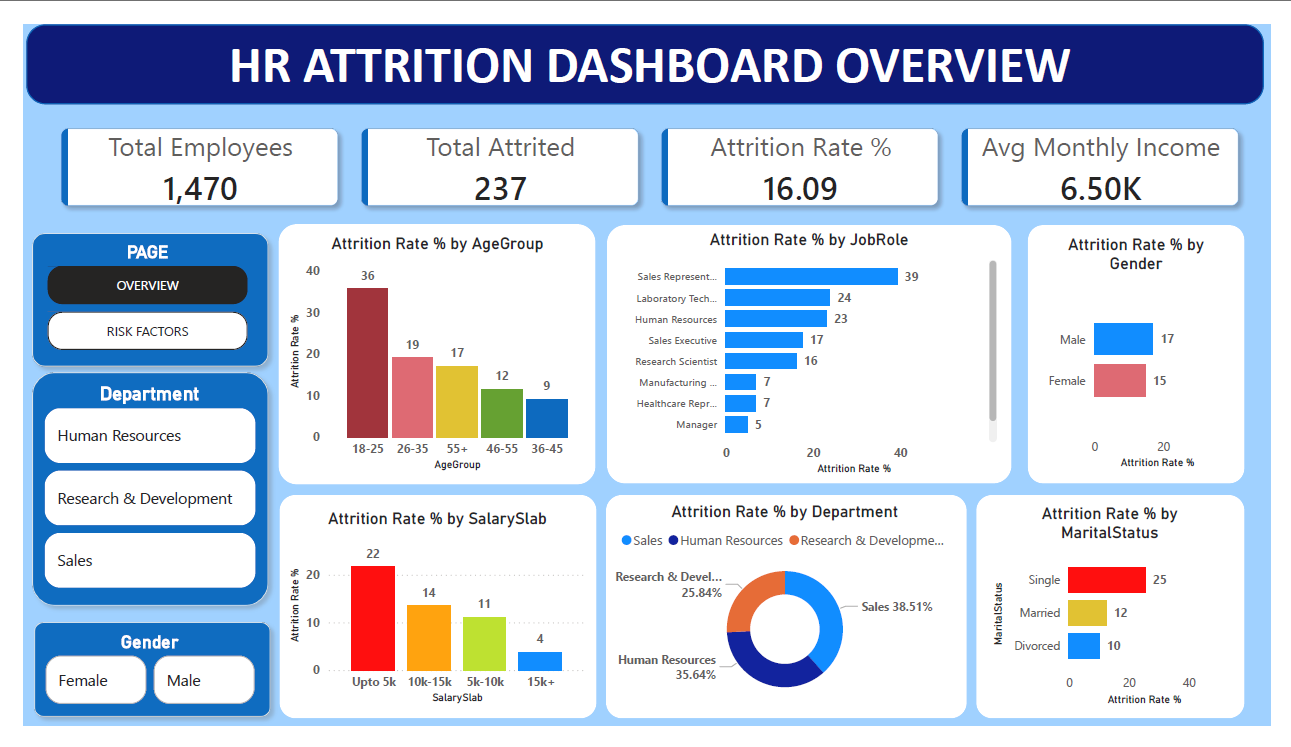

The page's visual inventory and layout, read from the dashboard file:
{"tool":"powerbi","page":{"name":"OVERVIEW","canvas":[1280,720],"ordinal":0},"visuals":[{"type":"shape","box":[598.3,483.3,370,228.3],"z":0},{"type":"shape","box":[3.3,0,1270,81.7],"z":1000},{"type":"shape","box":[0,205,260,155],"z":2000},{"type":"textbox","box":[8.3,3.3,1270,75],"z":3000},{"type":"pageNavigator","title":"PAGE","box":[25,223.3,205,111.7],"z":4000},{"type":"cardVisual","fields":{"Data":["hr_analytics_cleaned.Total Employees","hr_analytics_cleaned.Total Attrited","hr_analytics_cleaned.Attrition Rate %","hr_analytics_cleaned.Avg Monthly Income"]},"box":[10,78.3,1268.3,136.7],"z":5000},{"type":"shape","box":[0,348.3,260,256.7],"z":6000},{"type":"shape","box":[1.7,605,260,115],"z":7000},{"type":"shape","box":[261.7,205,325,266.7],"z":8000},{"type":"advancedSlicerVisual","fields":{"Values":["hr_analytics_cleaned.Department"]},"box":[16.7,366.7,226.7,218.3],"z":9000},{"type":"advancedSlicerVisual","fields":{"Values":["hr_analytics_cleaned.Gender"]},"box":[18.3,623.3,223.3,78.3],"z":10000},{"type":"shape","box":[598.6,205.7,415.7,265.7],"z":11000},{"type":"donutChart","fields":{"Y":["hr_analytics_cleaned.Attrition Rate %"],"Category":["hr_analytics_cleaned.Department"]},"box":[608.3,490,346.7,211.7],"z":12000},{"type":"shape","box":[1031.4,205.7,221.4,265.7],"z":13000},{"type":"barChart","fields":{"Y":["hr_analytics_cleaned.Attrition Rate %"],"Category":["hr_analytics_cleaned.JobRole"]},"box":[608.6,210,395.7,257.1],"z":14000},{"type":"shape","box":[978.3,483.3,275,228.3],"z":15000},{"type":"barChart","fields":{"Y":["hr_analytics_cleaned.Attrition Rate %"],"Category":["hr_analytics_cleaned.Gender"]},"box":[1042.9,215.7,198.6,244.3],"z":16000},{"type":"shape","box":[263.3,483.3,325,228.3],"z":17000},{"type":"barChart","fields":{"Y":["hr_analytics_cleaned.Attrition Rate %"],"Category":["hr_analytics_cleaned.MaritalStatus"]},"box":[990,491.7,250,211.7],"z":18000},{"type":"clusteredColumnChart","fields":{"Category":["hr_analytics_cleaned.SalarySlab"],"Y":["hr_analytics_cleaned.Attrition Rate %"]},"box":[268.3,496.7,313.3,205],"z":19000},{"type":"clusteredColumnChart","fields":{"Category":["hr_analytics_cleaned.AgeGroup"],"Y":["hr_analytics_cleaned.Attrition Rate %"]},"box":[268.3,215,313.3,248.3],"z":20000}]}

Visuals, with their boxes in screenshot pixels (x1, y1, x2, y2), scaled from the page's 1280x720 canvas onto the 1291x747 screenshot:
shape: Rect(603, 501, 977, 738)
shape: Rect(3, 0, 1284, 85)
shape: Rect(0, 213, 262, 374)
textbox: Rect(8, 3, 1289, 81)
"PAGE" pageNavigator: Rect(25, 232, 232, 348)
cardVisual - hr_analytics_cleaned.Total Employees x hr_analytics_cleaned.Total Attrited: Rect(10, 81, 1289, 223)
shape: Rect(0, 361, 262, 628)
shape: Rect(2, 628, 264, 746)
shape: Rect(264, 213, 592, 489)
advancedSlicerVisual - hr_analytics_cleaned.Department: Rect(17, 380, 245, 607)
advancedSlicerVisual - hr_analytics_cleaned.Gender: Rect(18, 647, 244, 728)
shape: Rect(604, 213, 1023, 489)
donutChart - hr_analytics_cleaned.Attrition Rate % x hr_analytics_cleaned.Department: Rect(614, 508, 963, 728)
shape: Rect(1040, 213, 1264, 489)
barChart - hr_analytics_cleaned.Attrition Rate % x hr_analytics_cleaned.JobRole: Rect(614, 218, 1013, 485)
shape: Rect(987, 501, 1264, 738)
barChart - hr_analytics_cleaned.Attrition Rate % x hr_analytics_cleaned.Gender: Rect(1052, 224, 1252, 477)
shape: Rect(266, 501, 593, 738)
barChart - hr_analytics_cleaned.Attrition Rate % x hr_analytics_cleaned.MaritalStatus: Rect(999, 510, 1251, 730)
clusteredColumnChart - hr_analytics_cleaned.SalarySlab x hr_analytics_cleaned.Attrition Rate %: Rect(271, 515, 587, 728)
clusteredColumnChart - hr_analytics_cleaned.AgeGroup x hr_analytics_cleaned.Attrition Rate %: Rect(271, 223, 587, 481)
